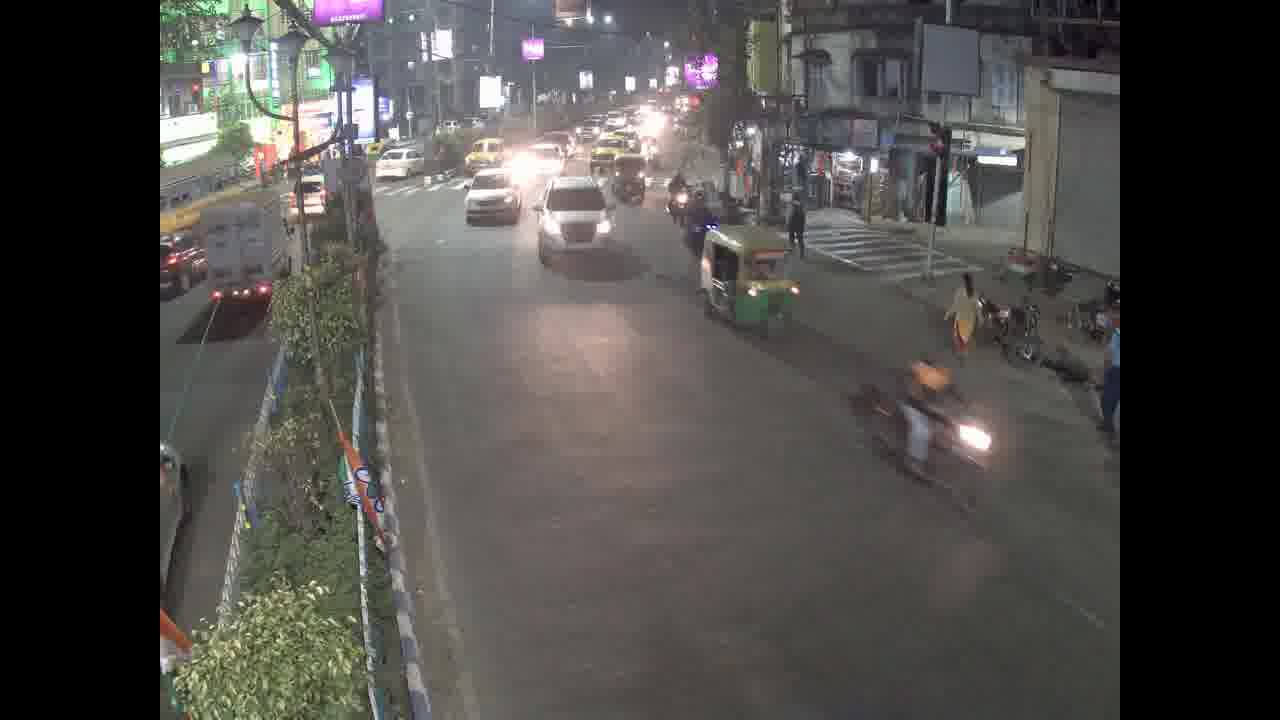auto-rickshaw: (701, 227, 792, 342), (600, 152, 652, 205)
bike: (865, 363, 990, 505)
car: (538, 181, 609, 257), (458, 170, 526, 227), (461, 129, 502, 169)
person: (898, 339, 951, 471), (938, 270, 982, 354), (785, 179, 821, 248)
